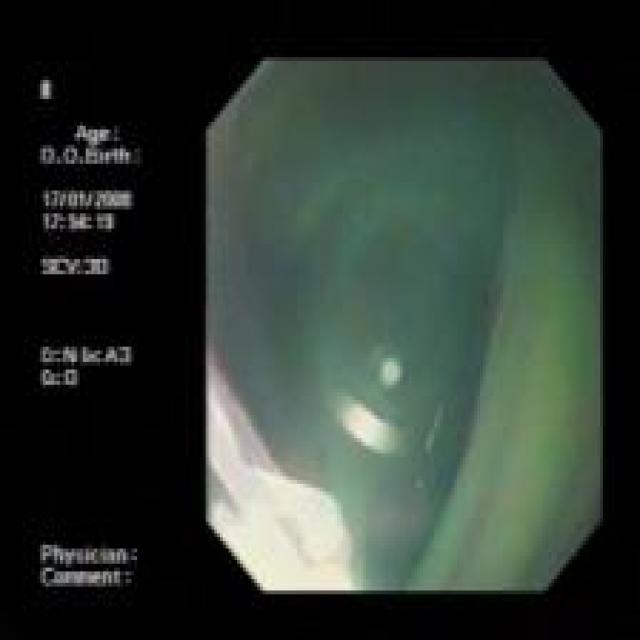color misalignment: (206, 59, 600, 591), (35, 72, 149, 593)
saturation: (205, 391, 358, 589)
specularity: (340, 397, 402, 457)
